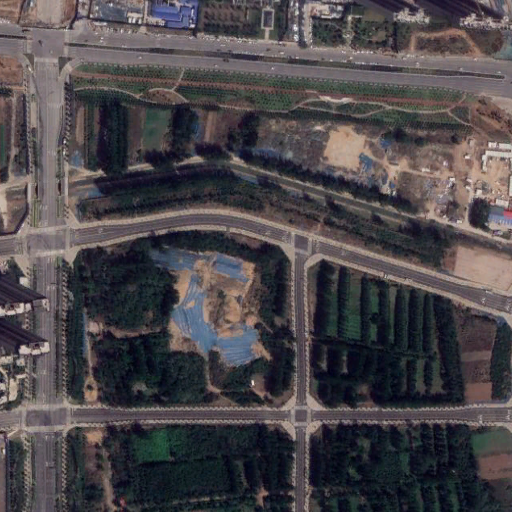cw: (253, 107, 472, 220), (153, 243, 272, 365)
